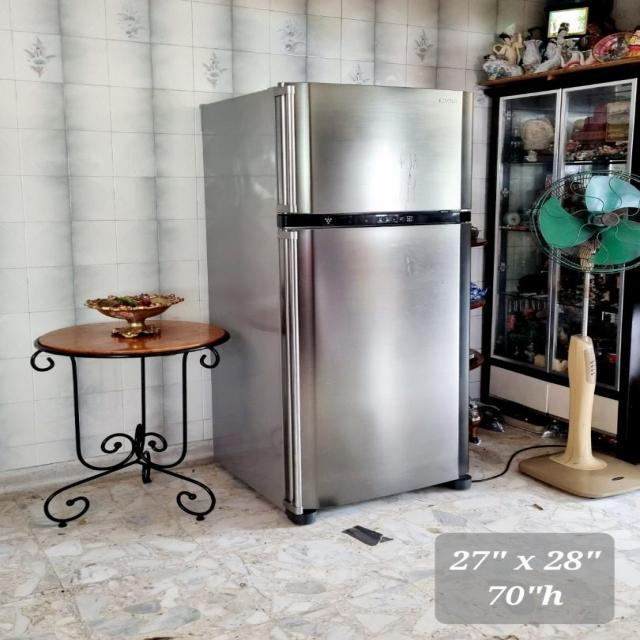refrigerator: (274, 80, 466, 522)
